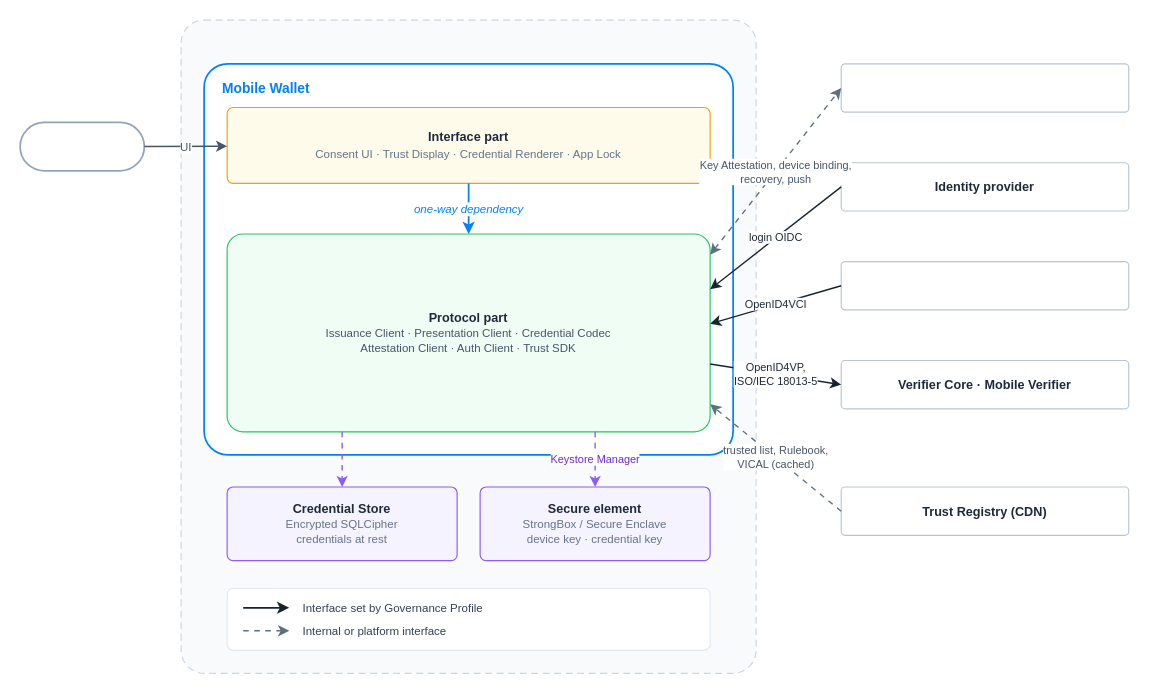
This 1150x693 diagram has some shape labels left out. Here are the shapes that lost their labels. From the top down, the box of each, then its label:
(840, 63, 1129, 112): Wallet Backend Service
(19, 121, 145, 171): Citizen
(840, 260, 1129, 310): Issuer Core
(180, 19, 756, 673): Citizen's device
